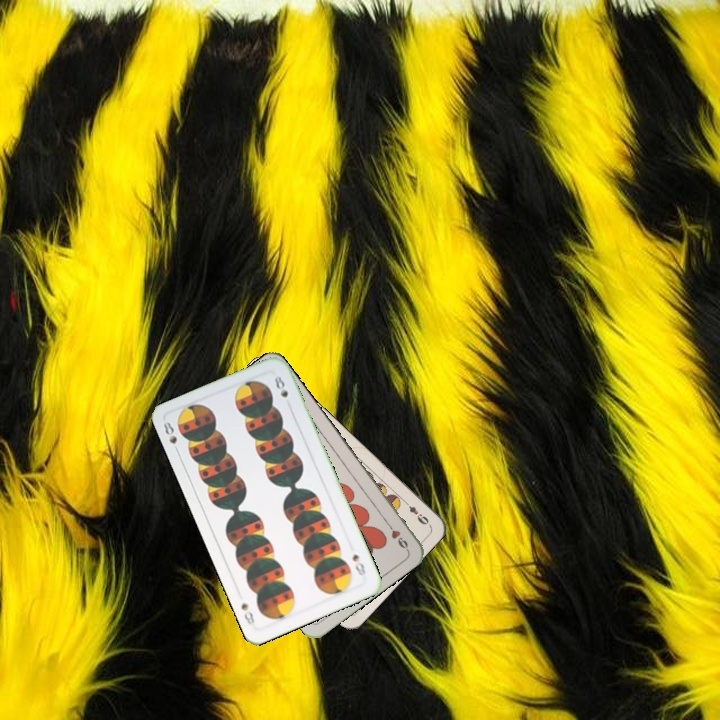E9: (399, 497, 431, 528)
H9: (382, 518, 411, 553)
S8: (159, 417, 182, 457), (348, 550, 370, 581)
